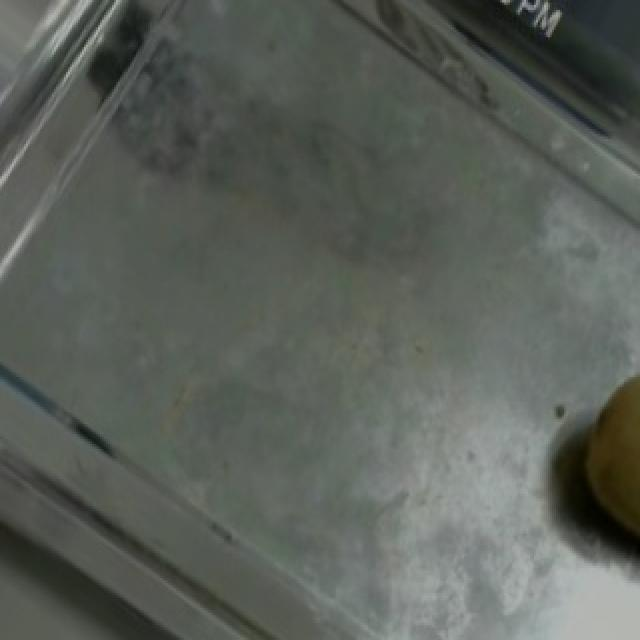Fruit: (550, 338, 640, 576)
